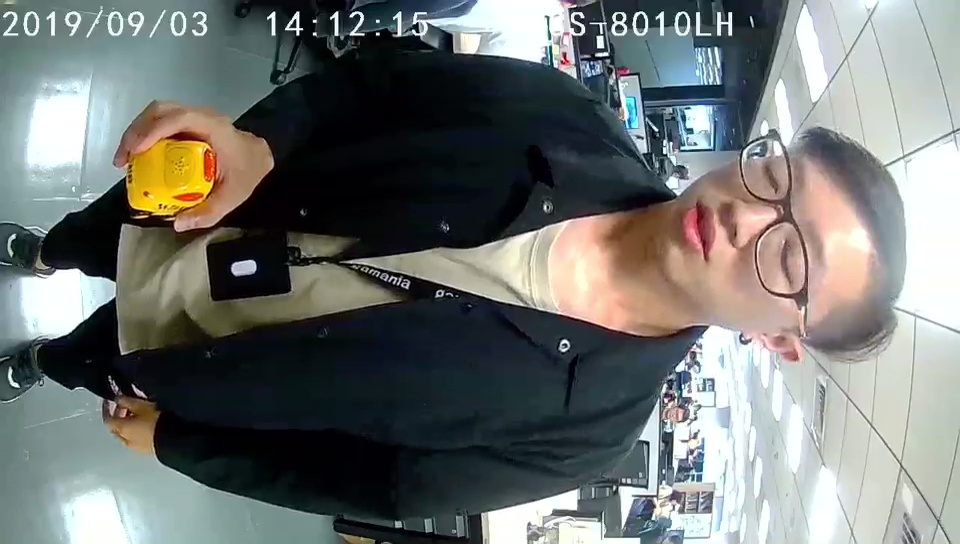car: (125, 138, 210, 211)
